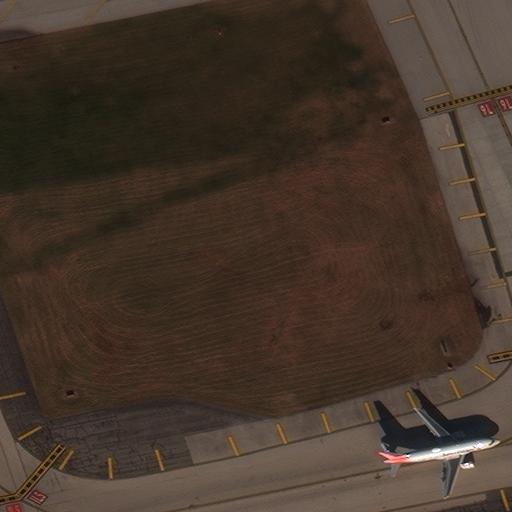Medium Civil Transport: (378, 408, 501, 496)
